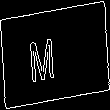M_N: (41, 27, 69, 83)
